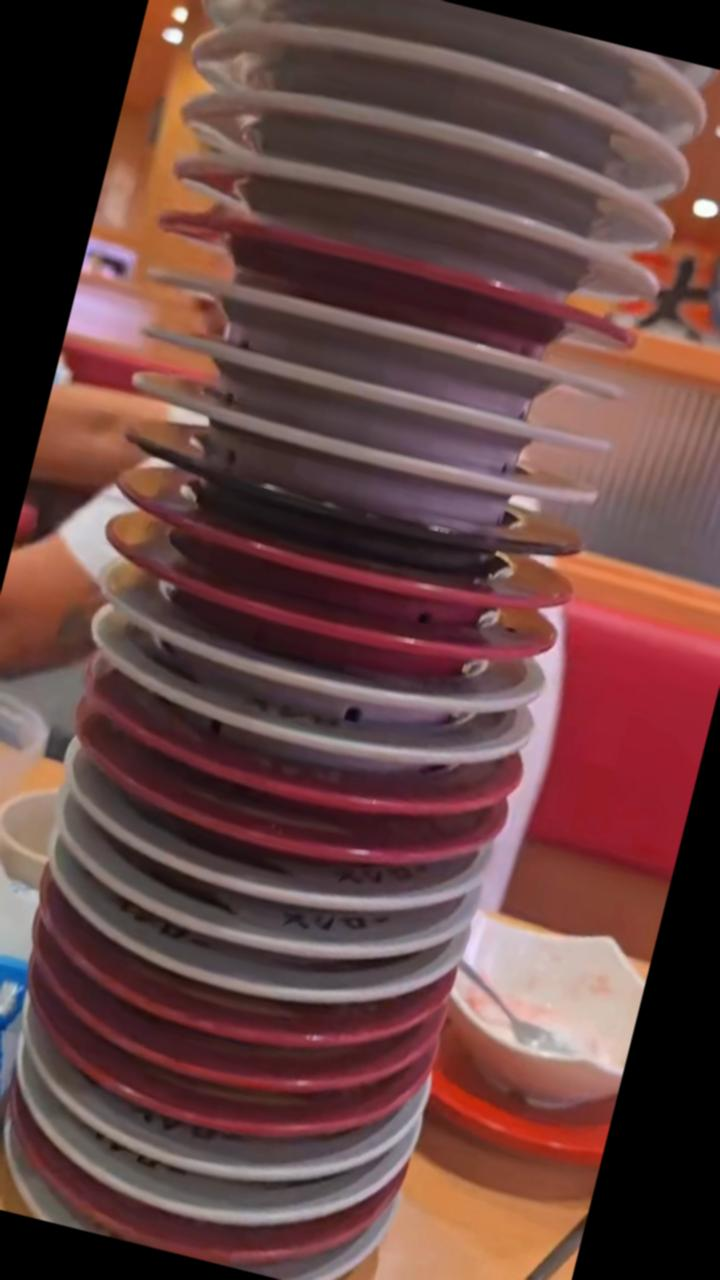Janback: (152, 457, 552, 582)
Janred: (166, 204, 630, 364), (125, 492, 569, 646), (124, 538, 512, 689), (128, 720, 472, 850), (103, 762, 431, 888), (73, 964, 369, 1072), (73, 1010, 362, 1120), (103, 1064, 336, 1148), (68, 1194, 296, 1269)
Janwhite: (136, 322, 628, 488), (212, 5, 690, 174), (141, 270, 620, 430), (184, 140, 656, 292), (124, 382, 581, 533), (200, 109, 673, 251), (217, 76, 671, 216), (214, 0, 718, 118), (124, 610, 530, 741), (120, 654, 470, 778), (114, 821, 456, 940), (95, 862, 432, 974), (83, 899, 396, 1010), (68, 1098, 338, 1196), (61, 1140, 314, 1234), (0, 1168, 52, 1217), (307, 1257, 375, 1280)
